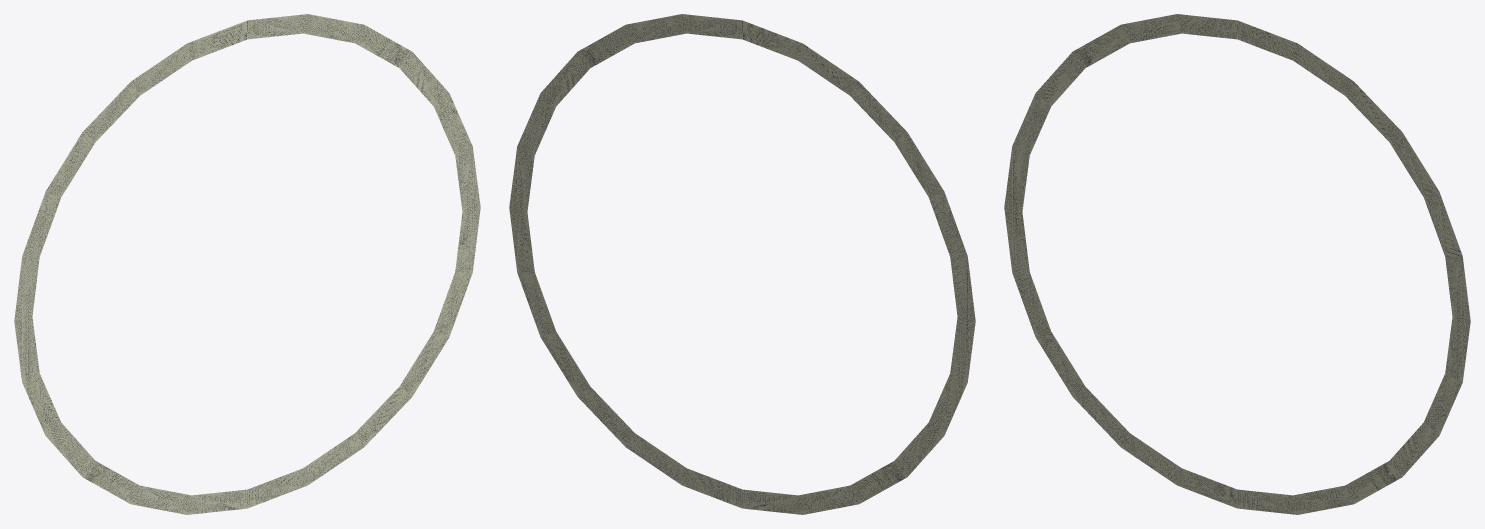
File: original-88.obj
3 views of the same model, side by side, from view 1: azimuth 30°, elevation 25°; view 2: azimuth 150°, elevation 25°; view 3: azimuth 330°, elevation 25° (orthographic).
Parts seen in each view (by area): view 1: mesh52/mesh52-geometry/material_11/component_1#mesh52-geometry; view 2: mesh52/mesh52-geometry/material_11/component_1#mesh52-geometry; view 3: mesh52/mesh52-geometry/material_11/component_1#mesh52-geometry.
Boxes of the visible parts, <box> form: mesh52/mesh52-geometry/material_11/component_1#mesh52-geometry: <box>14,14,480,514</box>; mesh52/mesh52-geometry/material_11/component_1#mesh52-geometry: <box>509,14,975,514</box>; mesh52/mesh52-geometry/material_11/component_1#mesh52-geometry: <box>1004,14,1470,514</box>.
Size of the model in its own units: 0.0416 by 0.0416 by 0.
